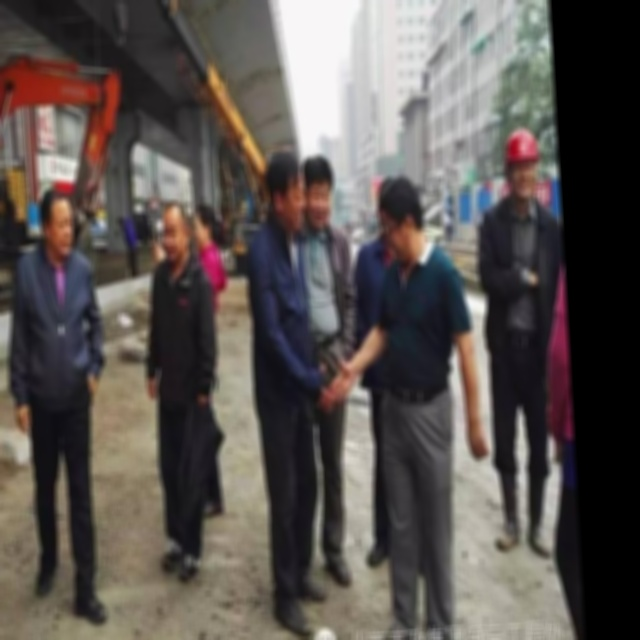Con_Casco: (504, 124, 539, 196)
Sin_Casco_Mascarrilla: (36, 184, 75, 260), (161, 200, 192, 264)
Sin_Chaleco: (379, 253, 472, 406), (245, 225, 315, 396)
